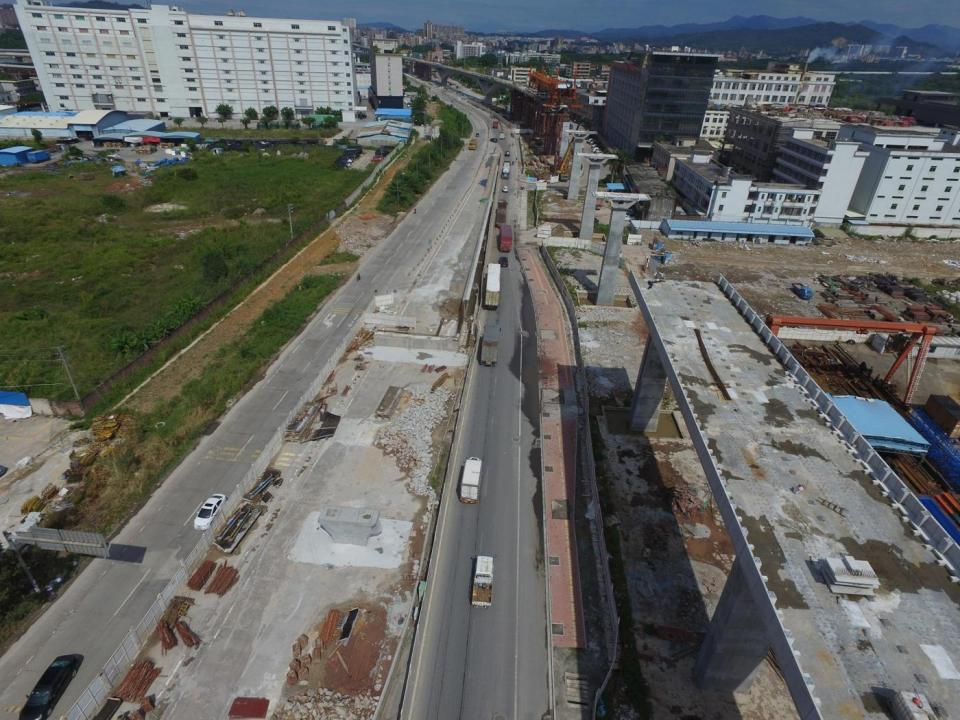car: (22, 652, 79, 717), (195, 492, 226, 530), (499, 256, 508, 267), (371, 156, 384, 162), (375, 154, 388, 160), (590, 140, 602, 146), (587, 138, 599, 143), (594, 150, 603, 156), (591, 143, 601, 148), (563, 123, 573, 128), (502, 186, 509, 192), (594, 146, 602, 151), (490, 138, 497, 142), (504, 151, 509, 156), (476, 133, 480, 137), (451, 100, 454, 102)
truck: (468, 555, 494, 608), (460, 455, 484, 505), (482, 324, 501, 367), (484, 262, 501, 310), (498, 224, 513, 252), (792, 282, 814, 299), (495, 199, 507, 227), (25, 150, 51, 162), (500, 160, 511, 180), (468, 138, 478, 149), (492, 120, 498, 128), (499, 132, 505, 140)
